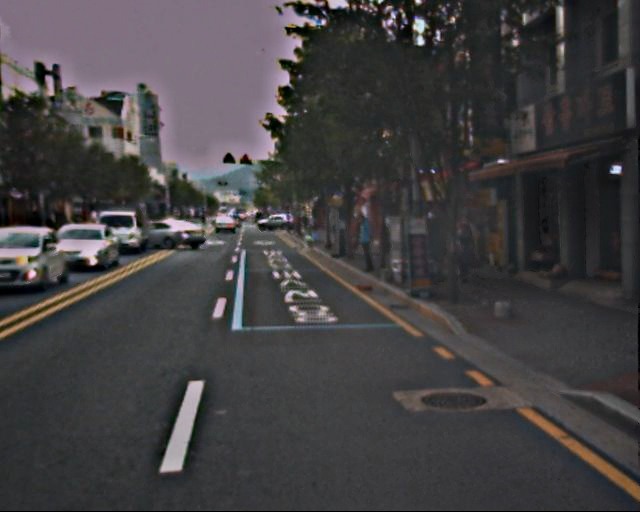person: (451, 216, 477, 280), (351, 210, 377, 273)
